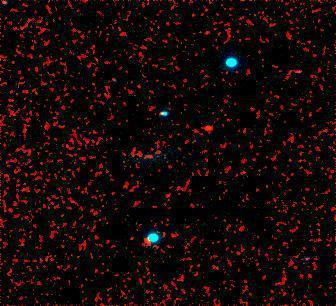star: (193, 112, 223, 142)
